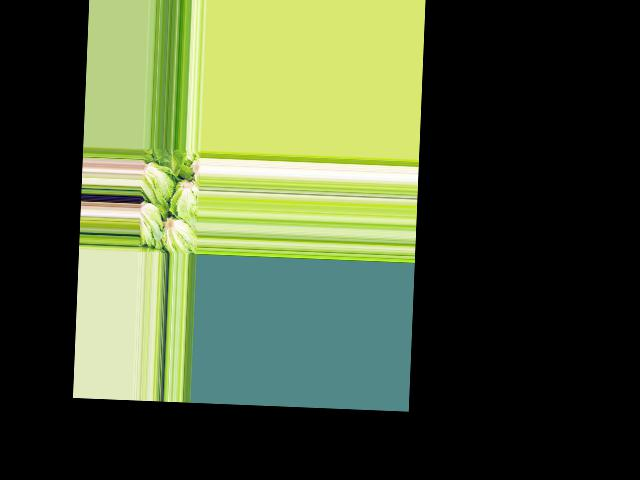lettuce: (161, 148, 186, 173)
